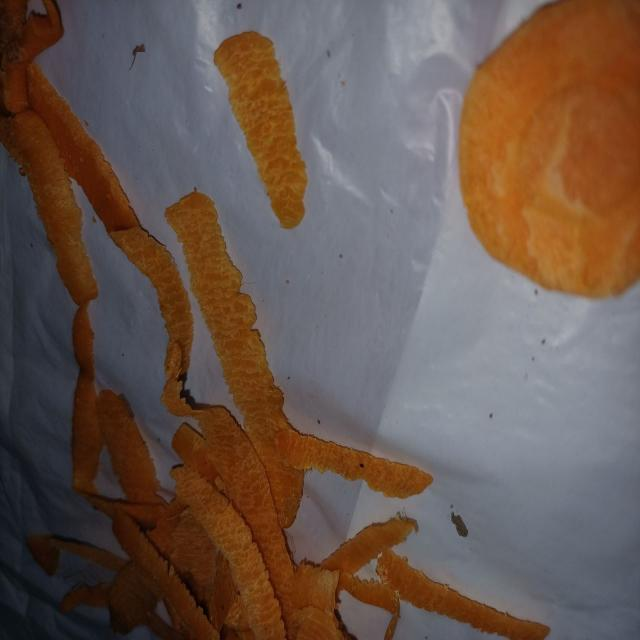organic: (2, 2, 307, 639), (457, 0, 639, 309)
